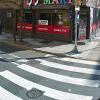Crosswalk: (8, 47, 100, 100)
